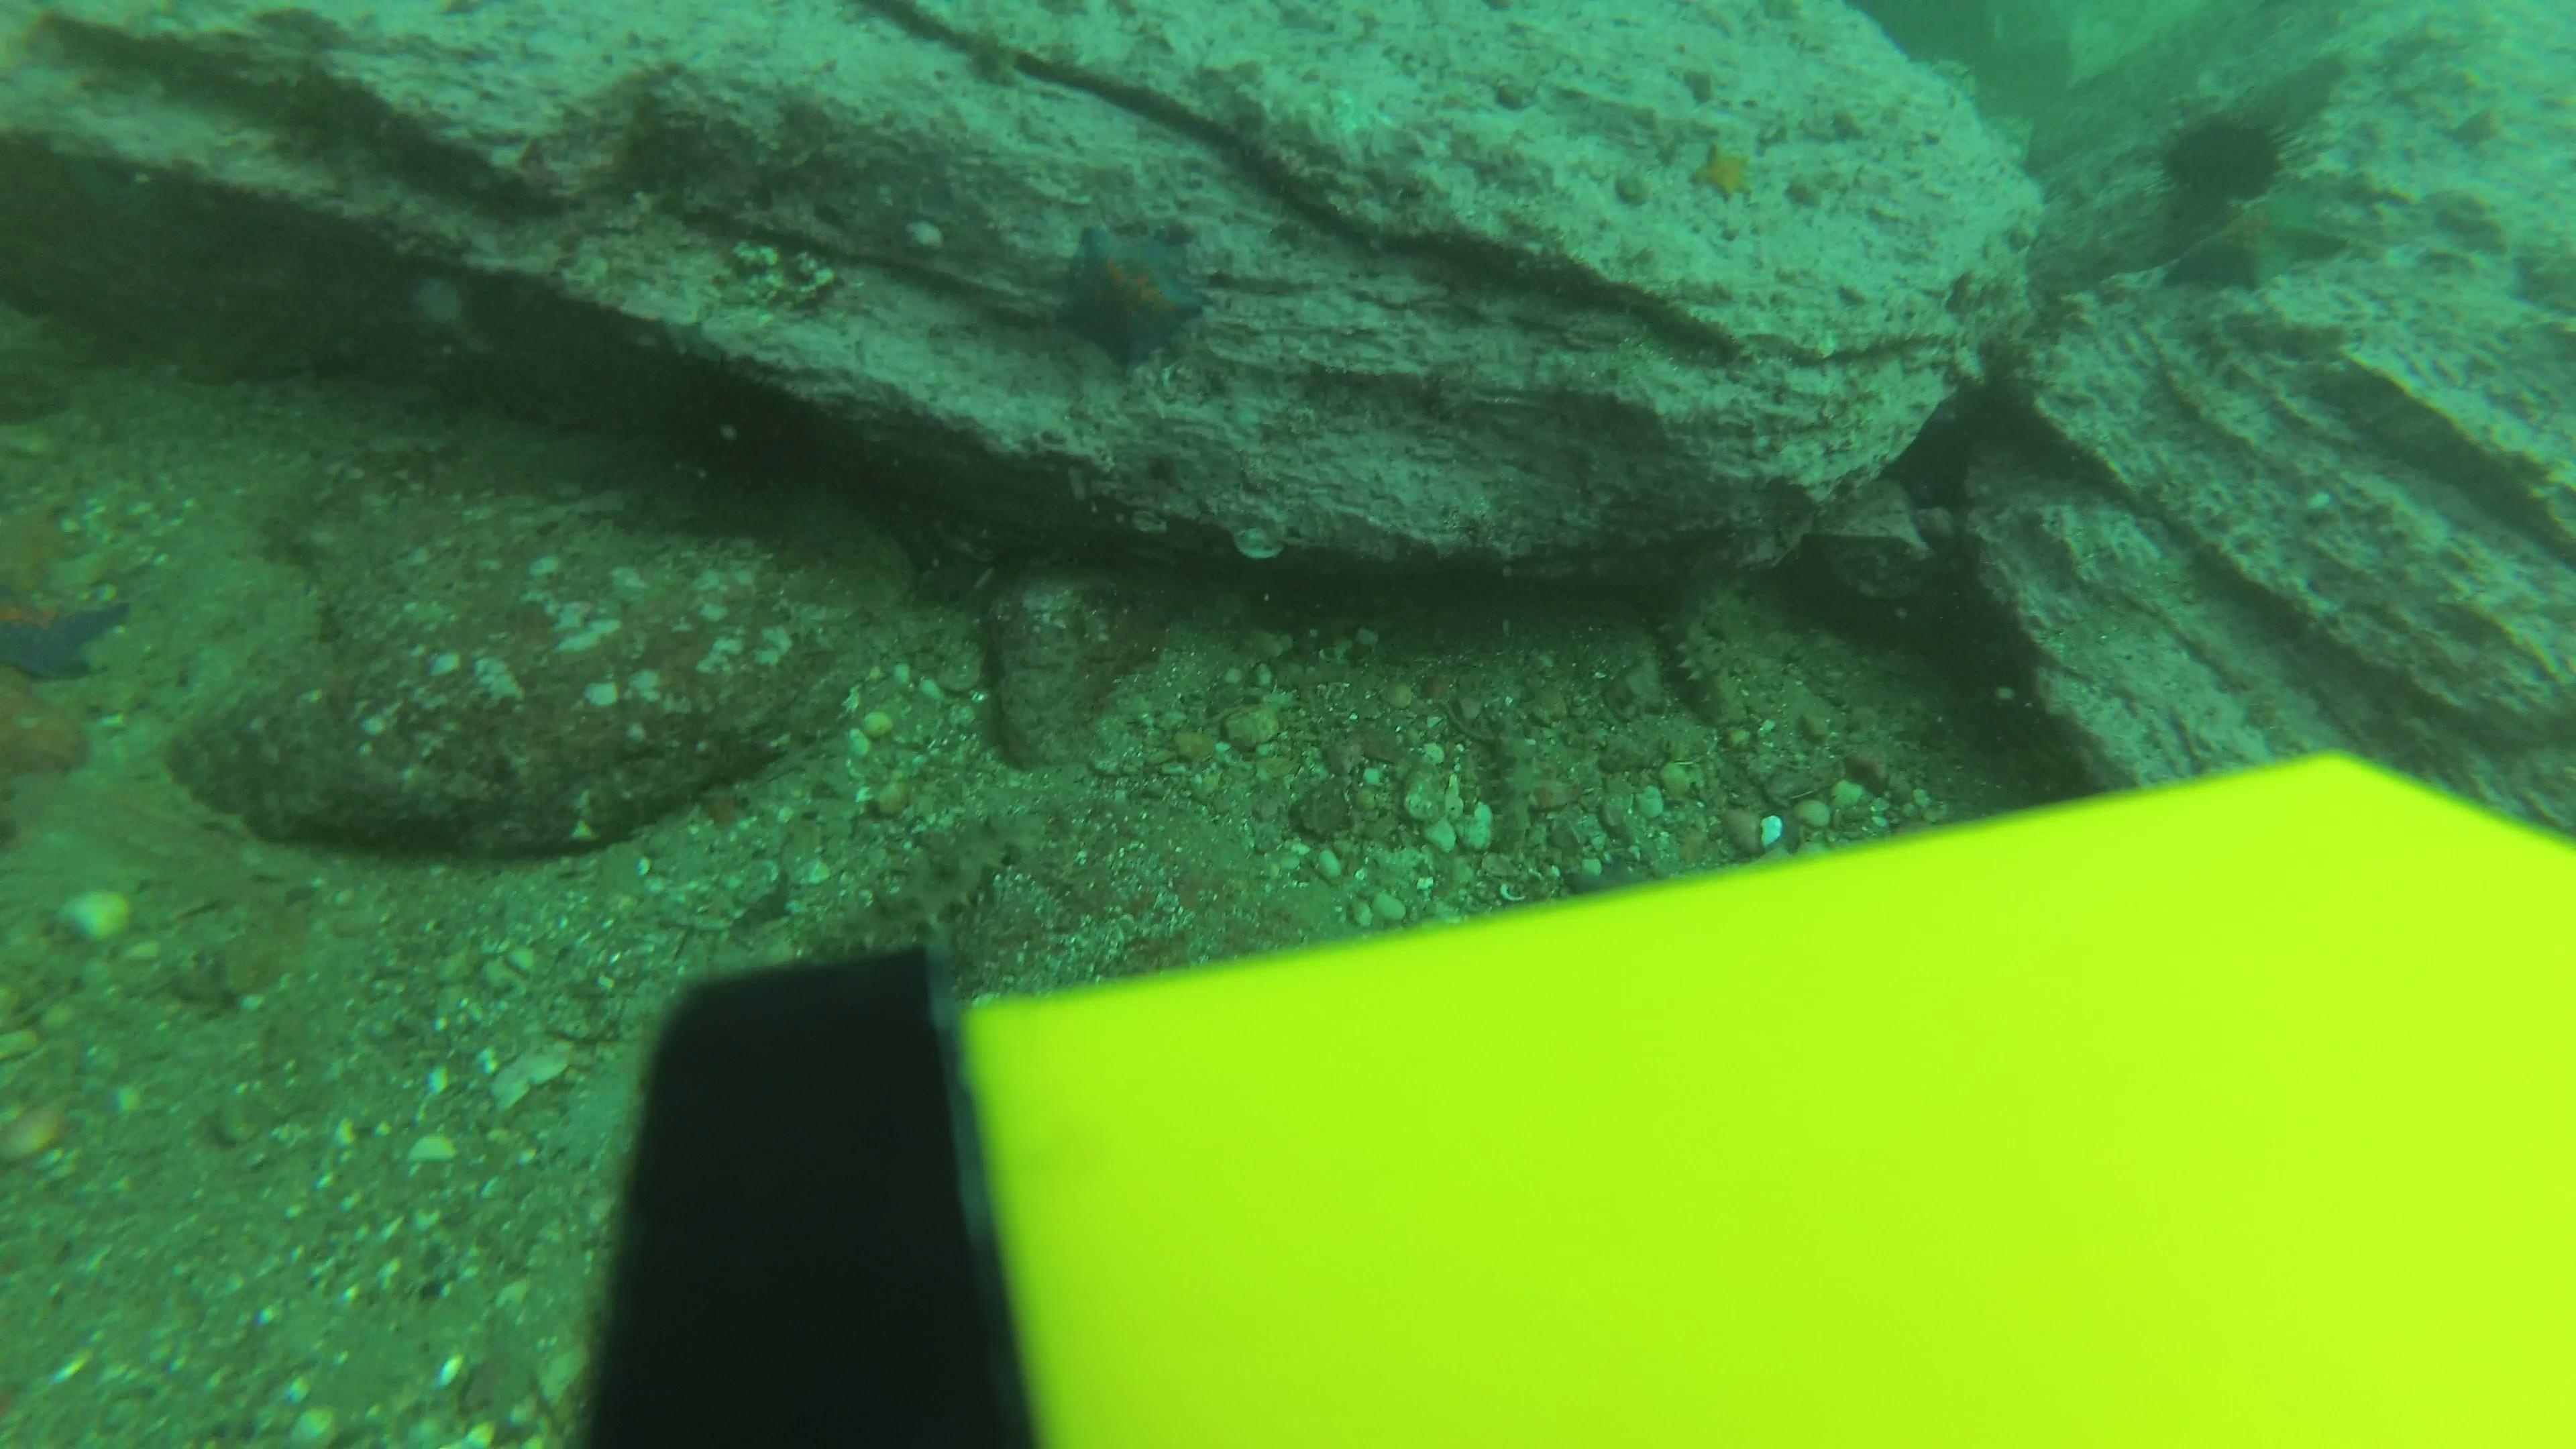echinus: (642, 364, 819, 508), (2151, 97, 2293, 209)
holothurian: (786, 796, 1031, 968), (1645, 571, 1766, 747), (1451, 690, 1571, 865)
starfish: (1047, 214, 1215, 372), (0, 490, 131, 688), (2158, 180, 2355, 297), (1684, 136, 1766, 207)
